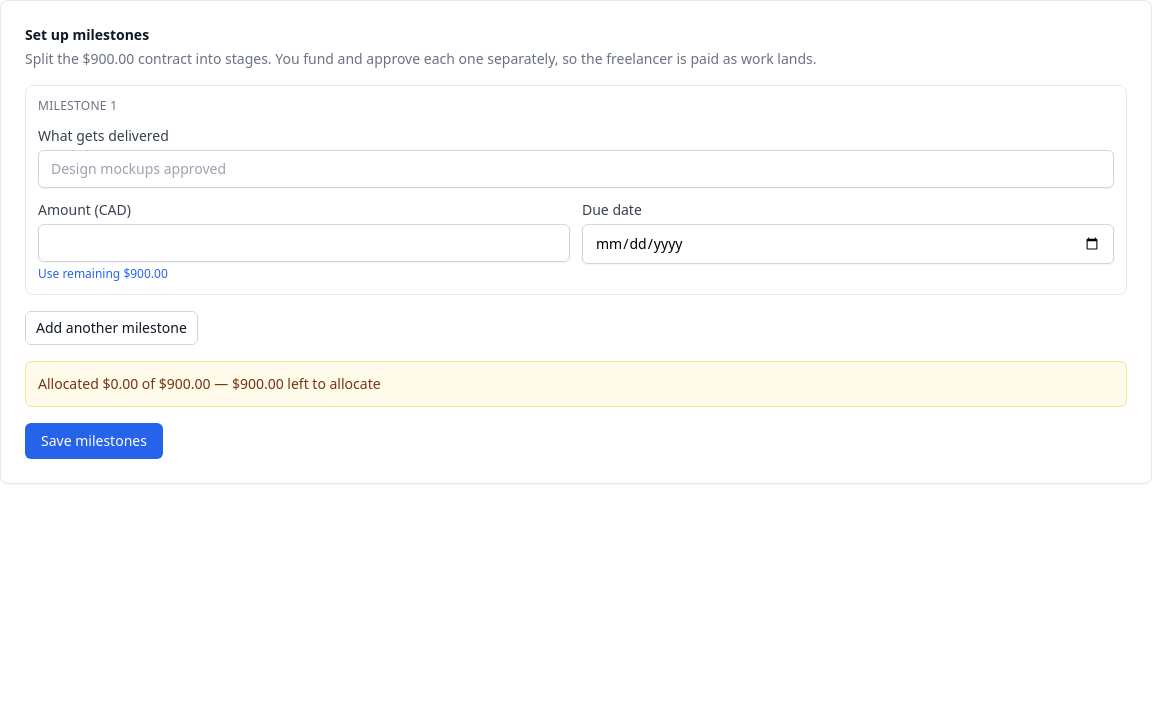
MilestoneSetupForm › reports an over-allocation as an overage, not a shortfall
Type "Design" into the field labelled "What gets delivered" at (576, 169), box [38, 150, 1114, 188]
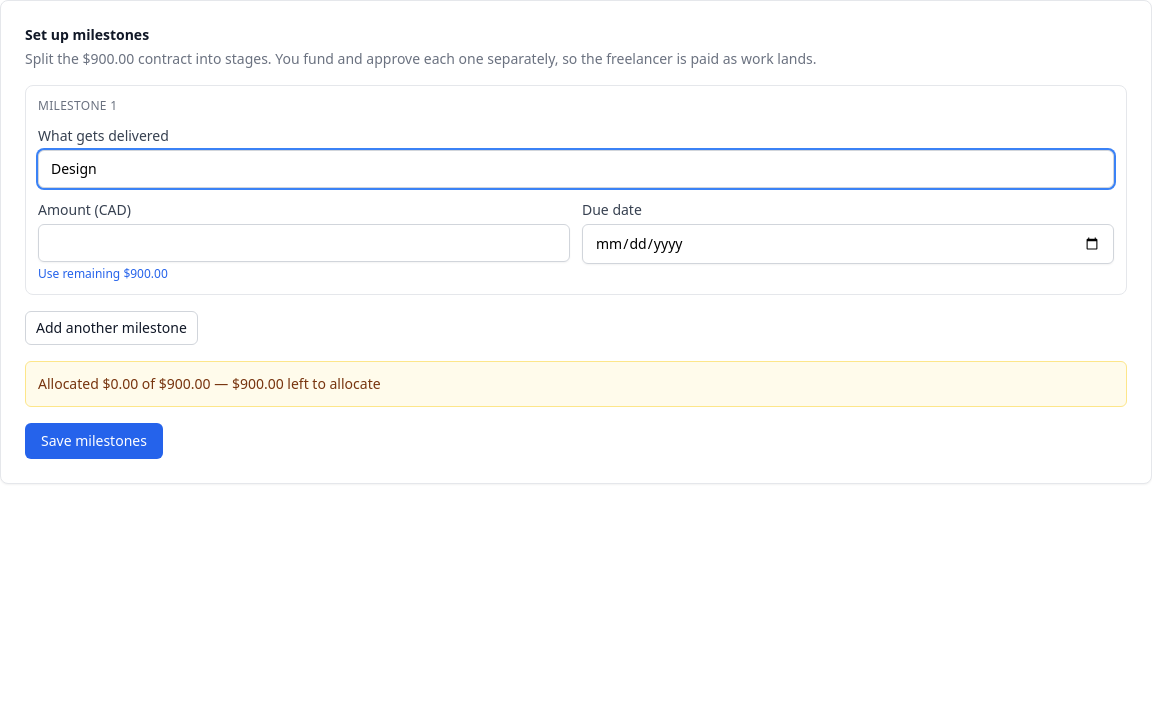
Type "1000.00" into the number field labelled "Amount (CAD)" at (304, 243), box [38, 224, 570, 262]
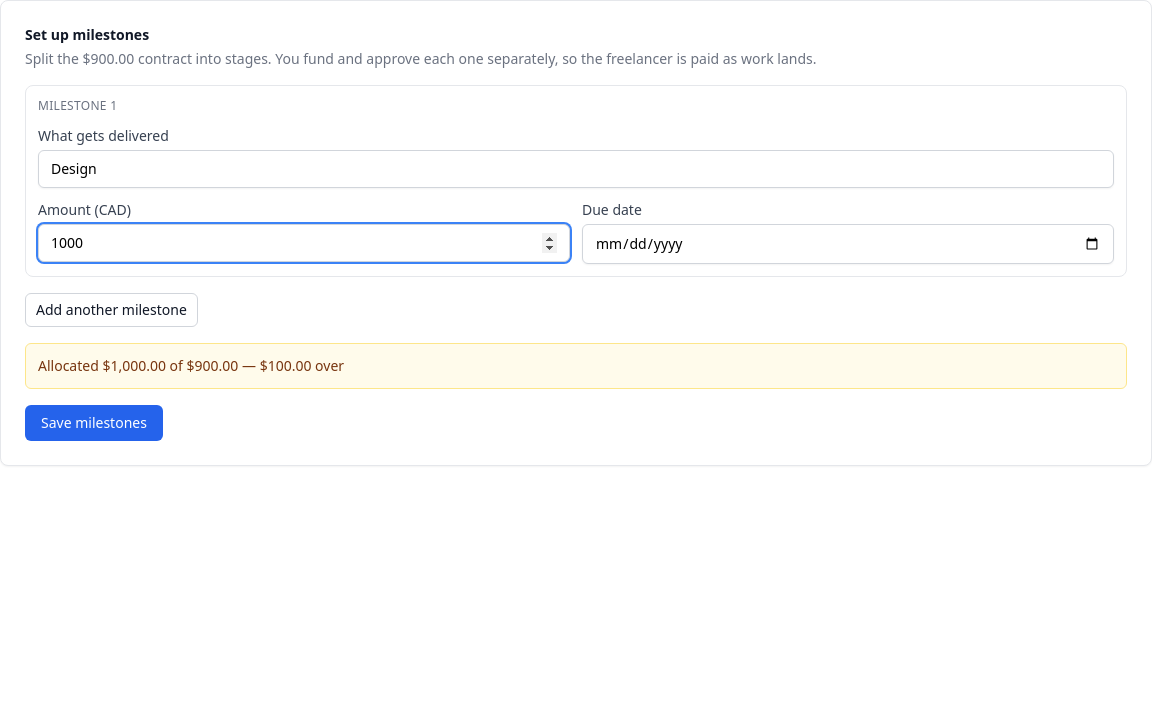
Type "2027-01-01" into the date field labelled "Due date" at (848, 244), box [582, 224, 1114, 264]
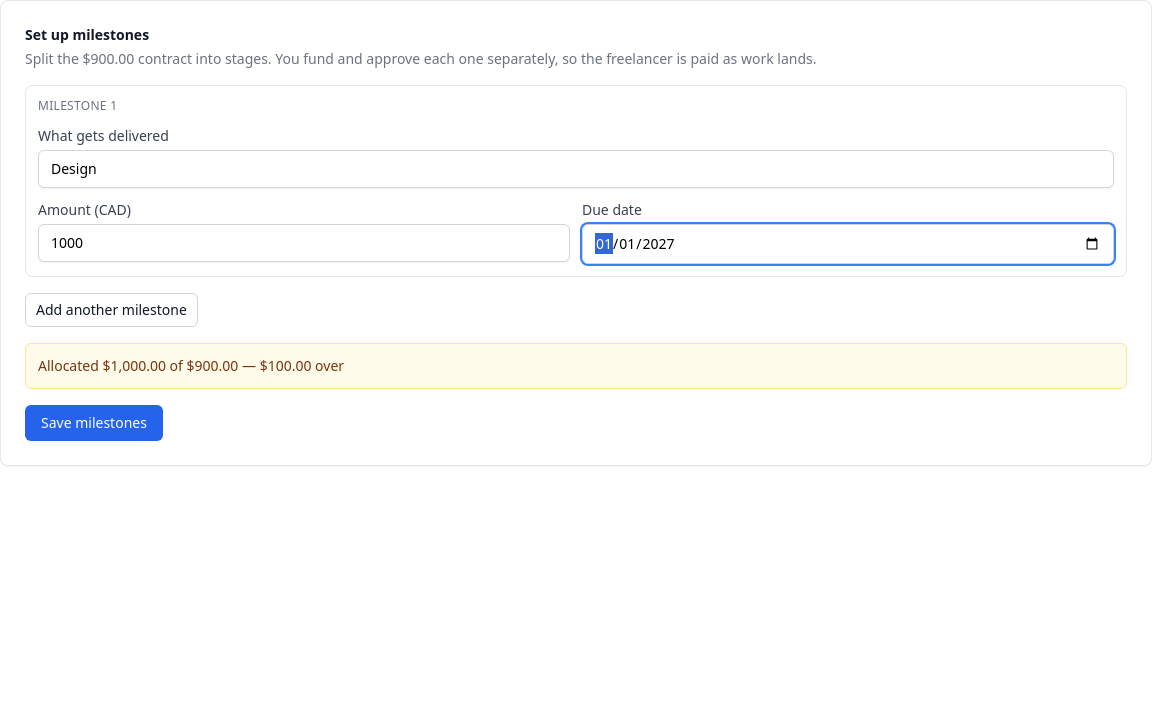
Click the button "Save milestones" at (94, 423), box [25, 405, 163, 441]
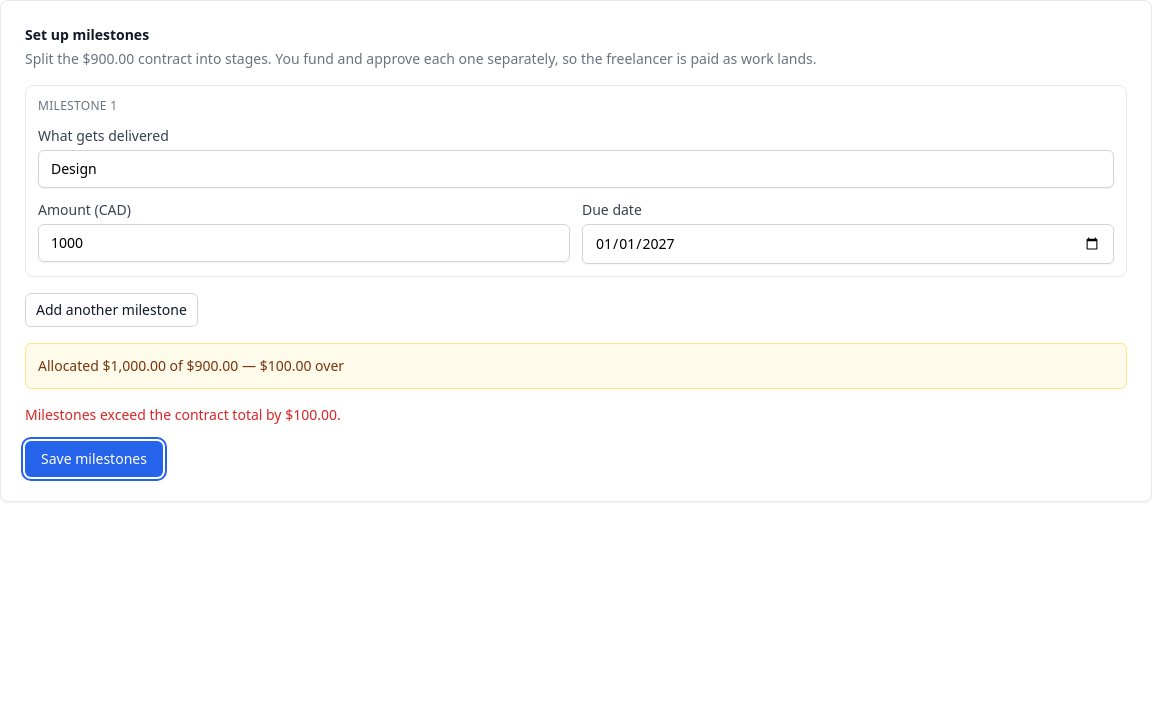
Expected: the text "Milestones exceed the contract total by $100.00." is shown, [25, 405, 341, 424]
